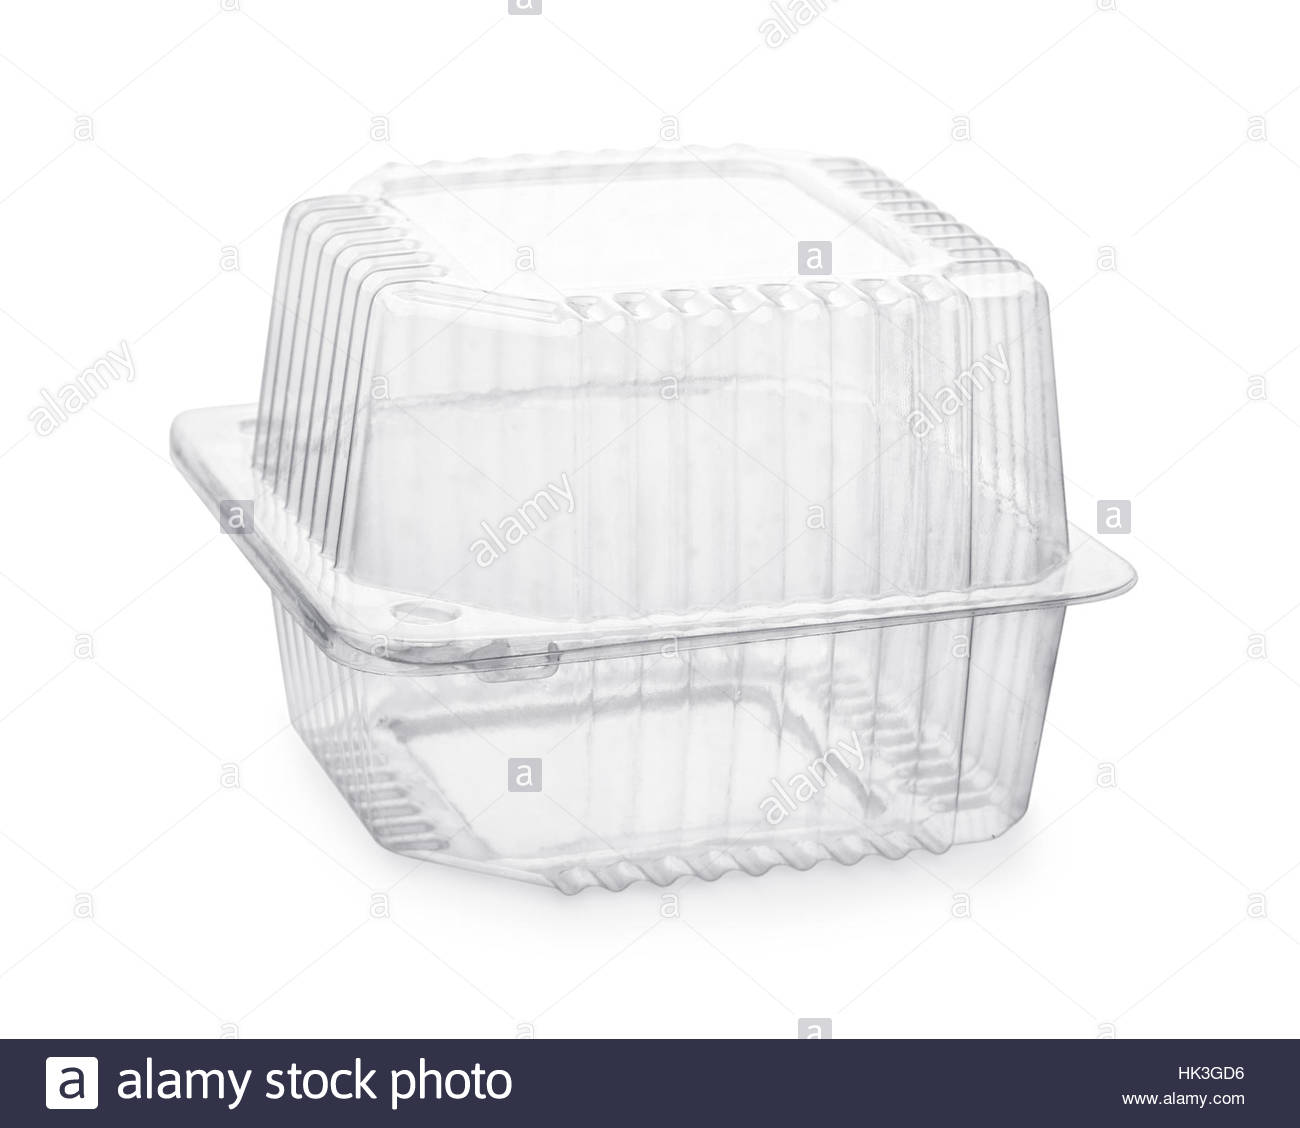PlasticBox: (158, 150, 1147, 904)
